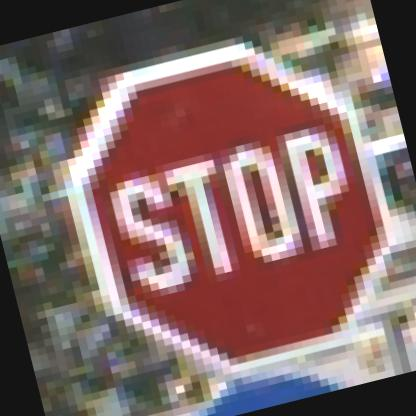stop: (15, 1, 415, 406)
